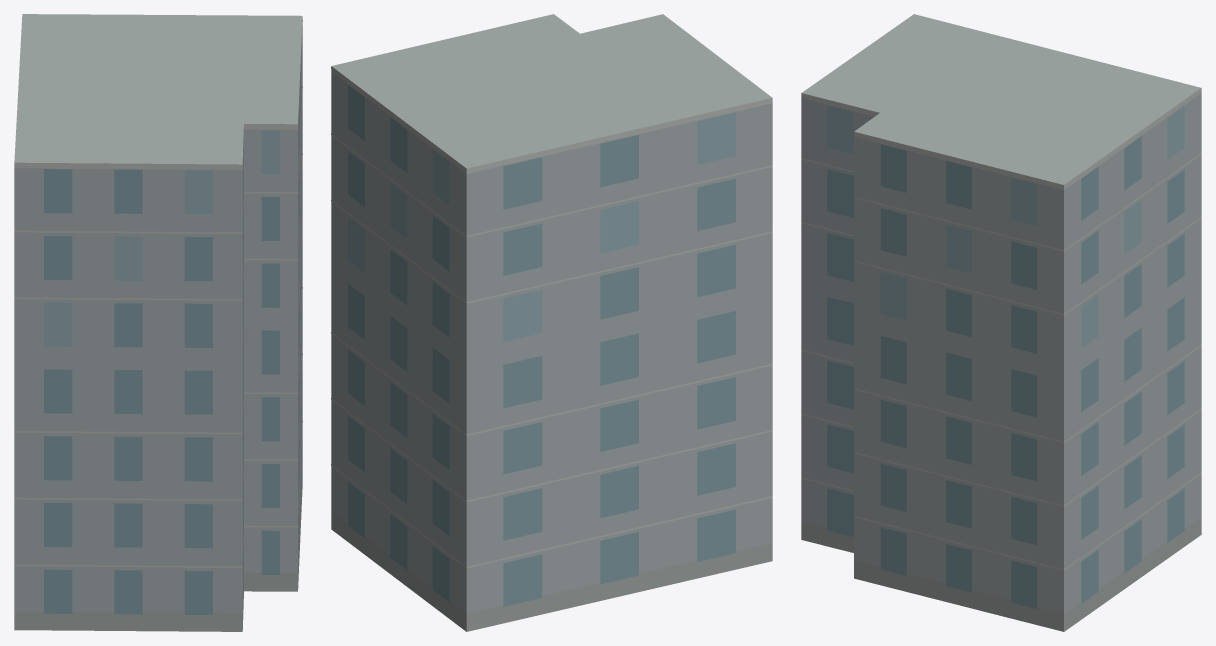
File: survey-upis-32788667.glb
The picture shows the model from 3 angles, left to right: view 1: azimuth 30°, elevation 25°; view 2: azimuth 150°, elevation 25°; view 3: azimuth 270°, elevation 25°; orthographic projection. The views are drawn at different scales.
Parts seen in each view (by area): view 1: survey-upis-32788667.tmp; view 2: survey-upis-32788667.tmp; view 3: survey-upis-32788667.tmp.
Part boxes in pixels (x1,y1,x2,y2): survey-upis-32788667.tmp: [14, 14, 302, 631]; survey-upis-32788667.tmp: [331, 14, 772, 631]; survey-upis-32788667.tmp: [801, 14, 1201, 631].
Bounding box in the file's own units: 17.14 × 20.85 × 16.94.
